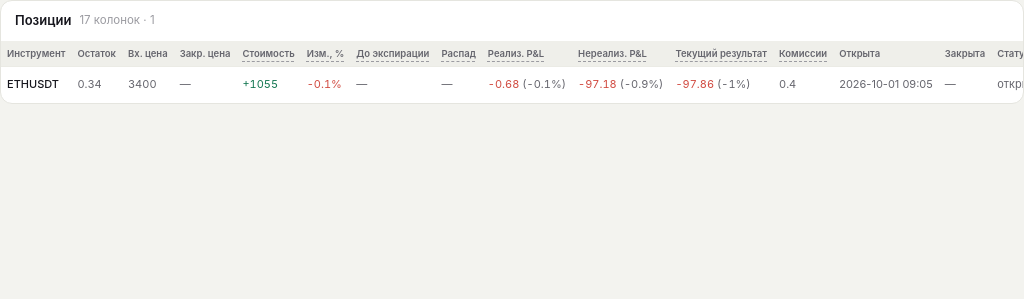
PositionsTable: подсказки заголовков числовых колонок › подсказка «Реализ. P&L» содержит разделы о значении в USDT и о проценте от капитала
# наведение на заголовок колонки.
Hover over the button "Реализ. P&L" at point(516, 53), box [488,46,544,60]
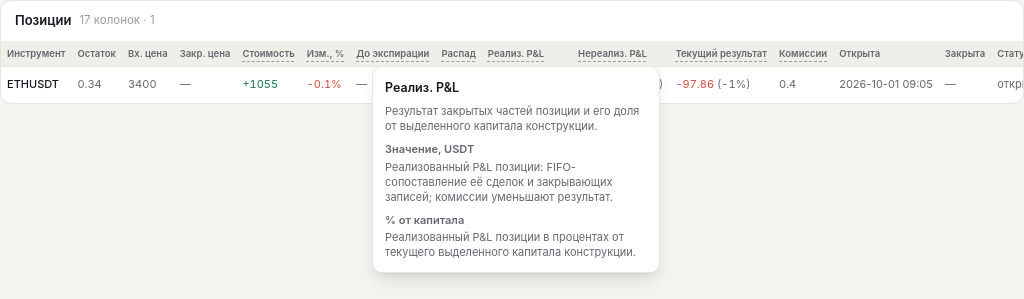
expect the tooltip shows "Значение, USDT": met, box [385,142,474,156]
expect the tooltip shows "Реализованный P&L позиции: FIFO-сопоставление её сделок и закрывающих записей; комиссии уменьшают результат.": met, box [385,160,613,204]
expect the tooltip shows "% от капитала": met, box [385,213,464,227]
